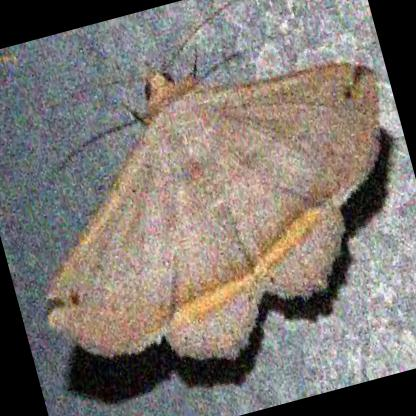Leaf Webber: (39, 58, 381, 368)
